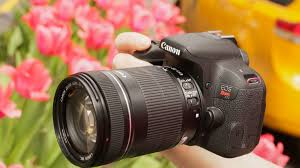camera: (53, 35, 262, 159)
